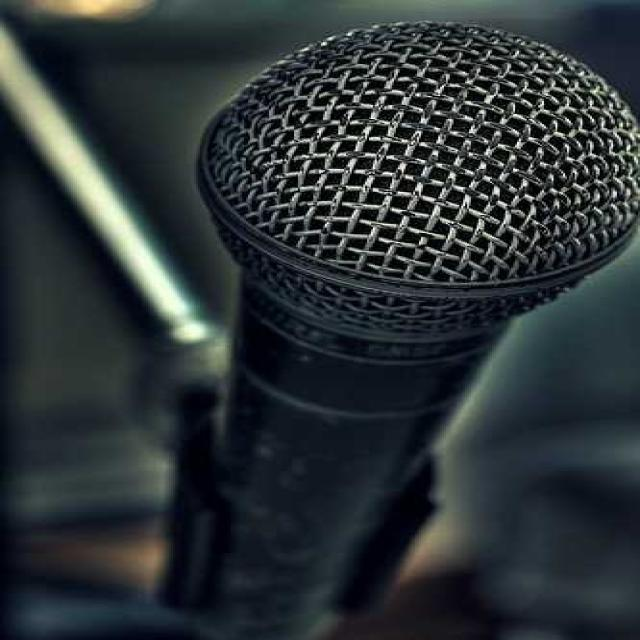microphone: (195, 25, 640, 599)
